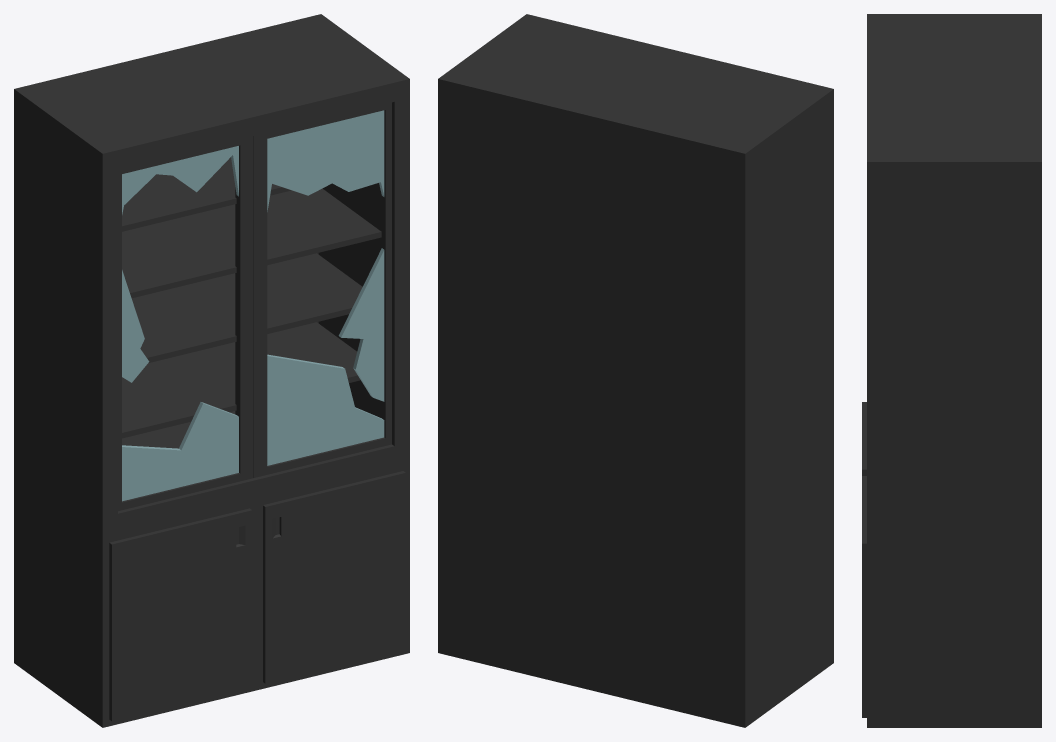
The model's file is cabinet1_broken.fbx.
The picture shows the model from 3 angles, left to right: view 1: azimuth 30°, elevation 25°; view 2: azimuth 150°, elevation 25°; view 3: azimuth 270°, elevation 25°; orthographic projection.
Visible parts, largest first — view 1: Cube; view 2: Cube; view 3: Cube.
Boxes of the visible parts, bbox=[...] form: Cube: bbox=[14, 14, 409, 727]; Cube: bbox=[438, 14, 833, 727]; Cube: bbox=[862, 14, 1041, 727].
Bounding box in the file's own units: 140 × 250 × 72.
